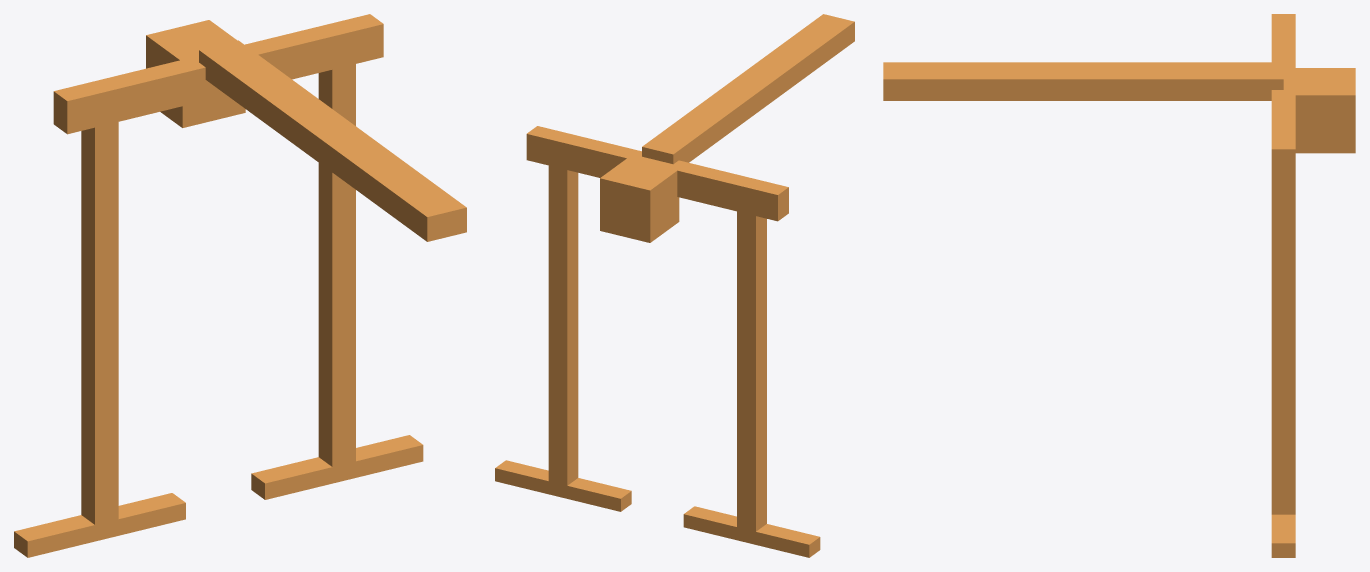
File: crane.glb
3 views of the same model, side by side, from view 1: azimuth 30°, elevation 25°; view 2: azimuth 150°, elevation 25°; view 3: azimuth 270°, elevation 25° (orthographic). The views are drawn at different scales.
Size of the model in its own units: 50 by 55.5 by 59.
